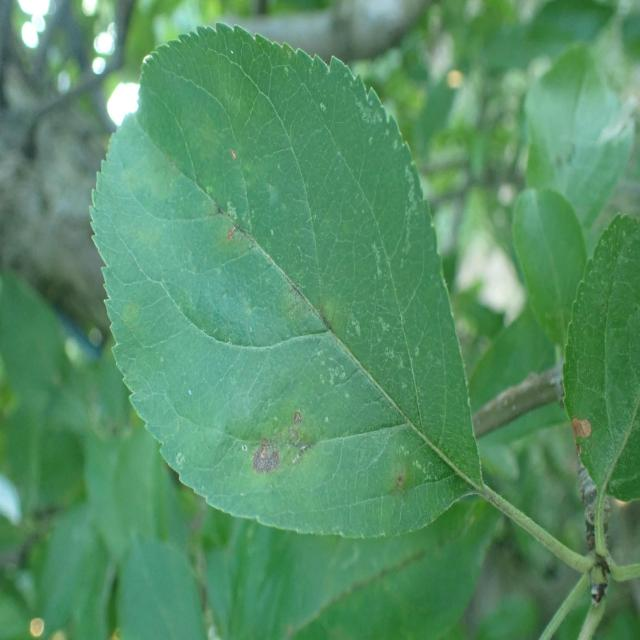scab: (127, 97, 456, 520)
